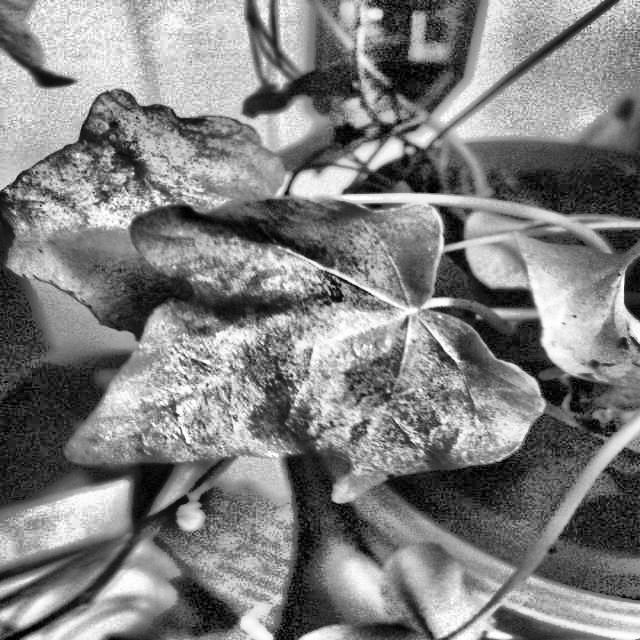plants: (6, 82, 640, 512)
